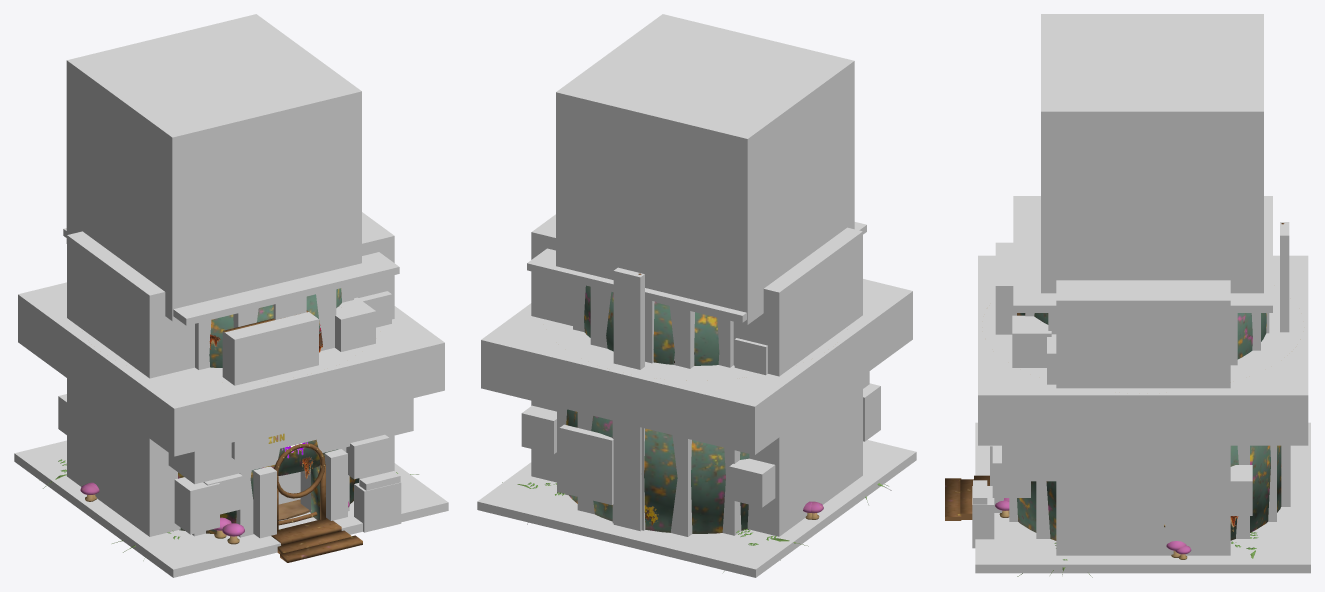
File: mushroom_inn.glb
The picture shows the model from 3 angles, left to right: view 1: azimuth 30°, elevation 25°; view 2: azimuth 150°, elevation 25°; view 3: azimuth 270°, elevation 25°; orthographic projection. The views are drawn at different scales.
Visible parts, largest first — view 1: col_bld_mushroom_inn_bigshroom, col_bld_mushroom_inn_balcony, col_bld_mushroom_inn_pipes, col_bld_mushroom_inn_plinth, col_bld_mushroom_inn_mainsign, mushroom_inn_body_a, col_bld_mushroom_inn_arms, col_bld_mushroom_inn_roof, col_bld_SIGN_banner_crown_i.011, mushroom_inn_body_b, col_bld_mushroom_inn_SIGN_board_posts, col_bld_WINDOW_round_sill_i.013 (+9 smaller); view 2: col_bld_mushroom_inn_bigshroom, col_bld_mushroom_inn_balcony, col_bld_mushroom_inn_pipes, col_bld_mushroom_inn_plinth, mushroom_inn_body_a, climb_mushroom_inn_ladder_0, col_bld_SIGN_banner_crown_i.013, col_bld_mushroom_inn_roof, col_bld_WINDOW_round_sill_i.017, col_bld_mushroom_inn_lower_5, mushroom_inn_body_b, col_bld_WINDOW_round_sill_i.016 (+8 smaller); view 3: col_bld_mushroom_inn_bigshroom, col_bld_mushroom_inn_pipes, col_bld_mushroom_inn_balcony, col_bld_mushroom_inn_plinth, col_bld_mushroom_inn_roof, mushroom_inn_body_b, col_bld_WINDOW_round_sill_i.013, col_bld_mushroom_inn_arms, col_bld_mushroom_inn_mainsign, col_bld_WINDOW_round_sill_i.016, mushroom_inn_body_a, climb_mushroom_inn_ladder_0 (+7 smaller).
Part boxes in pixels (left/top/right/bottom): col_bld_mushroom_inn_bigshroom: left=66, top=14, right=361, bottom=321; col_bld_mushroom_inn_balcony: left=18, top=282, right=444, bottom=456; col_bld_mushroom_inn_pipes: left=67, top=212, right=394, bottom=536; col_bld_mushroom_inn_plinth: left=14, top=440, right=448, bottom=577; col_bld_mushroom_inn_mainsign: left=222, top=312, right=318, bottom=459; mushroom_inn_body_a: left=39, top=305, right=362, bottom=562; col_bld_mushroom_inn_arms: left=168, top=398, right=413, bottom=484; col_bld_mushroom_inn_roof: left=63, top=228, right=399, bottom=325; col_bld_SIGN_banner_crown_i.011: left=174, top=477, right=219, bottom=534; mushroom_inn_body_b: left=288, top=288, right=418, bottom=521; col_bld_mushroom_inn_SIGN_board_posts: left=354, top=482, right=401, bottom=532; col_bld_WINDOW_round_sill_i.013: left=335, top=297, right=375, bottom=351; col_bld_mushroom_inn_bigshroom: left=556, top=14, right=854, bottom=324; col_bld_mushroom_inn_balcony: left=481, top=279, right=912, bottom=454; col_bld_mushroom_inn_pipes: left=531, top=214, right=862, bottom=536; col_bld_mushroom_inn_plinth: left=477, top=440, right=916, bottom=577; mushroom_inn_body_a: left=638, top=273, right=891, bottom=572; climb_mushroom_inn_ladder_0: left=613, top=267, right=644, bottom=531; col_bld_SIGN_banner_crown_i.013: left=559, top=424, right=613, bottom=504; col_bld_mushroom_inn_roof: left=527, top=222, right=866, bottom=322; col_bld_WINDOW_round_sill_i.017: left=729, top=458, right=775, bottom=507; col_bld_mushroom_inn_lower_5: left=670, top=435, right=692, bottom=536; mushroom_inn_body_b: left=502, top=285, right=613, bottom=524; col_bld_WINDOW_round_sill_i.016: left=521, top=405, right=556, bottom=454; col_bld_mushroom_inn_bigshroom: left=1041, top=14, right=1263, bottom=293; col_bld_mushroom_inn_pipes: left=1056, top=280, right=1230, bottom=555; col_bld_mushroom_inn_balcony: left=978, top=255, right=1308, bottom=445; col_bld_mushroom_inn_plinth: left=975, top=422, right=1310, bottom=573; col_bld_mushroom_inn_roof: left=1013, top=196, right=1272, bottom=312; mushroom_inn_body_b: left=945, top=313, right=1300, bottom=577; col_bld_WINDOW_round_sill_i.013: left=1012, top=315, right=1051, bottom=367; col_bld_mushroom_inn_arms: left=1002, top=445, right=1056, bottom=481; col_bld_mushroom_inn_mainsign: left=995, top=242, right=1016, bottom=334; col_bld_WINDOW_round_sill_i.016: left=1230, top=465, right=1252, bottom=515; mushroom_inn_body_a: left=945, top=223, right=1284, bottom=516; climb_mushroom_inn_ladder_0: left=1280, top=222, right=1289, bottom=332.
Size of the model in its own units: 6.76 by 9 by 6.76.
Materials: 39 (13 with a texture image).
